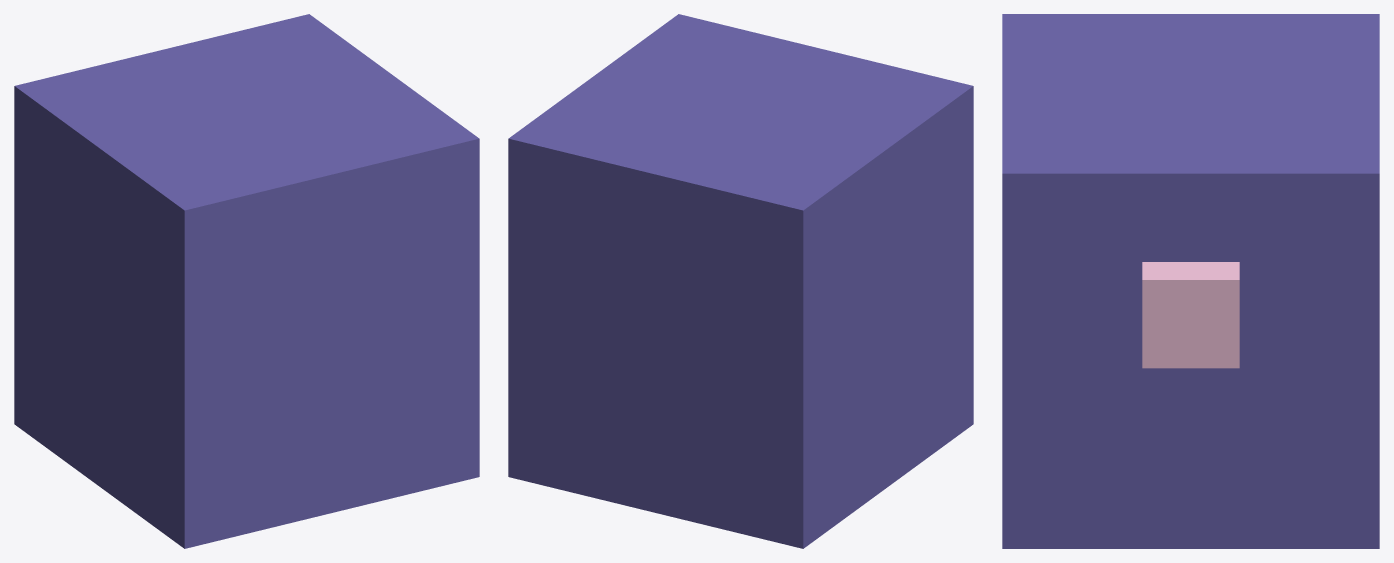
File: yukata_manga_sup.glb
The picture shows the model from 3 angles, left to right: view 1: azimuth 30°, elevation 25°; view 2: azimuth 150°, elevation 25°; view 3: azimuth 270°, elevation 25°; orthographic projection. The views are drawn at different scales.
Parts seen in each view (by area): view 1: yukata_manga_sup; view 2: yukata_manga_sup; view 3: yukata_manga_sup.
Part boxes in pixels (left/top/right/bottom): yukata_manga_sup: left=14, top=14, right=479, bottom=548; yukata_manga_sup: left=508, top=14, right=973, bottom=548; yukata_manga_sup: left=1002, top=14, right=1379, bottom=548.
Size of the model in its own units: 0.345 by 0.34 by 0.31.
